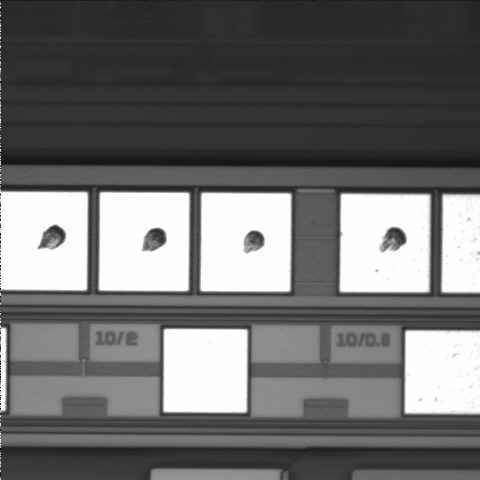pad: (99, 192, 189, 291), (201, 193, 291, 292), (340, 194, 430, 292), (164, 329, 247, 412)
